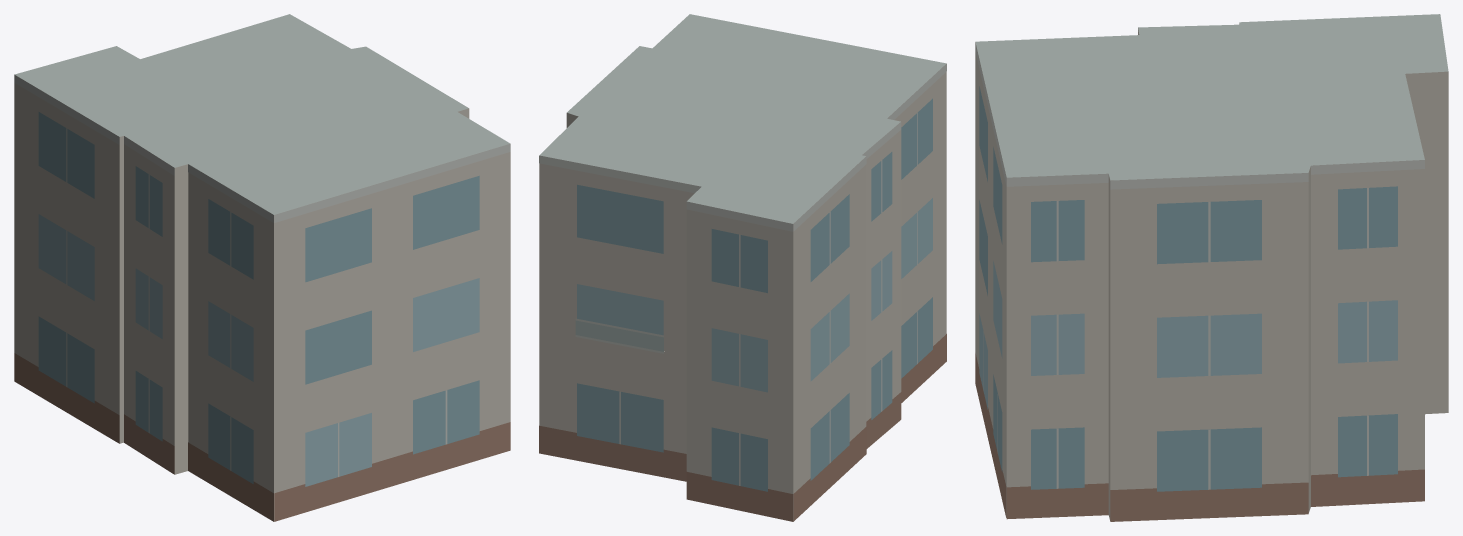
File: survey-upis-32625747.glb
The picture shows the model from 3 angles, left to right: view 1: azimuth 30°, elevation 25°; view 2: azimuth 150°, elevation 25°; view 3: azimuth 270°, elevation 25°; orthographic projection. The views are drawn at different scales.
Visible parts, largest first — view 1: survey-upis-32625747.tmp; view 2: survey-upis-32625747.tmp; view 3: survey-upis-32625747.tmp.
Boxes of the visible parts, <box> form: survey-upis-32625747.tmp: <box>14,14,510,521</box>; survey-upis-32625747.tmp: <box>539,14,946,521</box>; survey-upis-32625747.tmp: <box>975,14,1448,521</box>.
Size of the model in its own units: 9.58 by 9.15 by 11.51.
